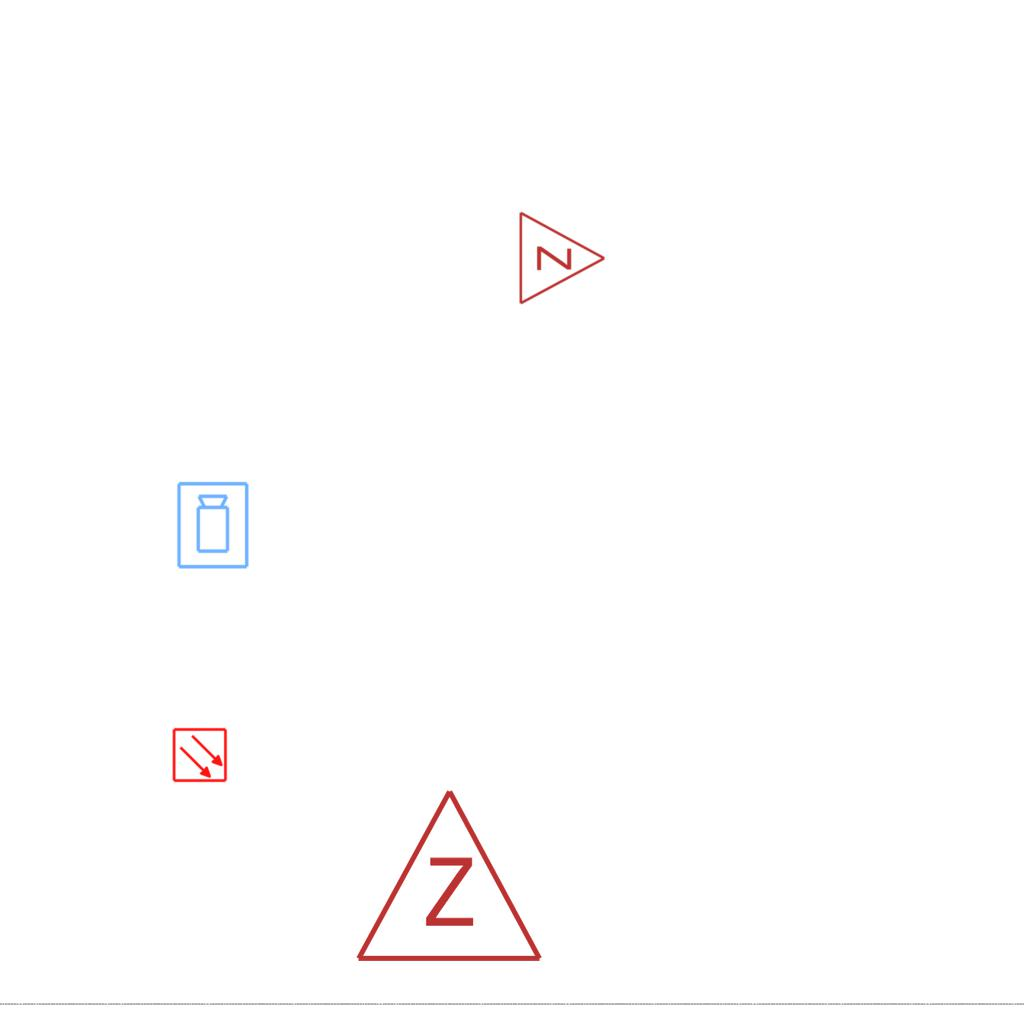KFO_Kamera_mit_Festobjektiv: (175, 480, 252, 571)
RMO_Rauchmelder_optischer: (172, 727, 228, 783)
Zimmersignalleuchte: (349, 776, 545, 976), (512, 208, 612, 306)
